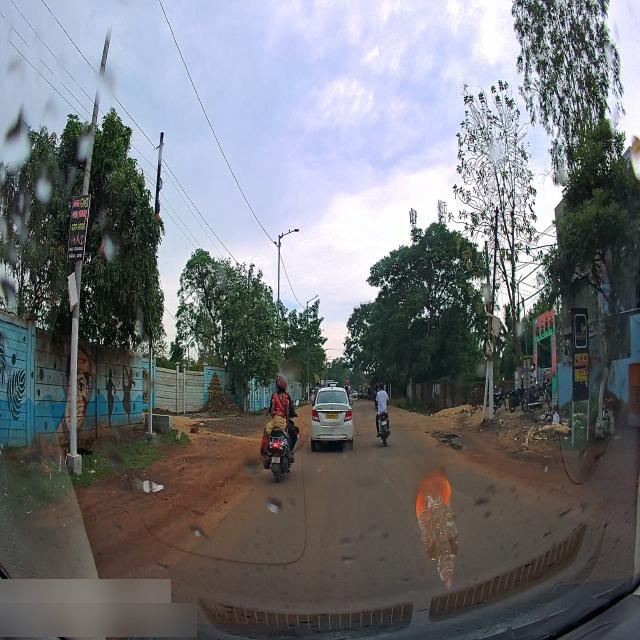pothole: (104, 474, 175, 497), (436, 418, 468, 466)
